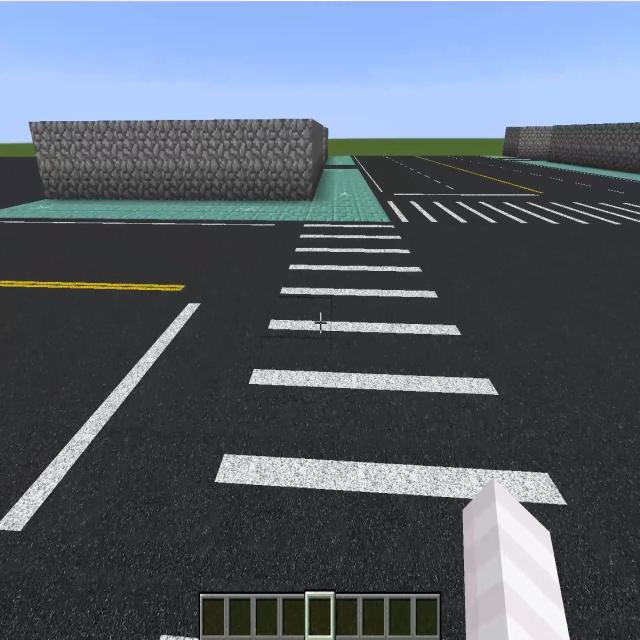crosswalk: (214, 221, 565, 505), (384, 199, 640, 221)
road: (1, 220, 302, 639), (401, 225, 640, 639), (161, 488, 467, 639), (354, 158, 640, 197), (0, 159, 44, 212)
sidewalk: (0, 172, 387, 219), (511, 159, 640, 180), (326, 155, 355, 166)
